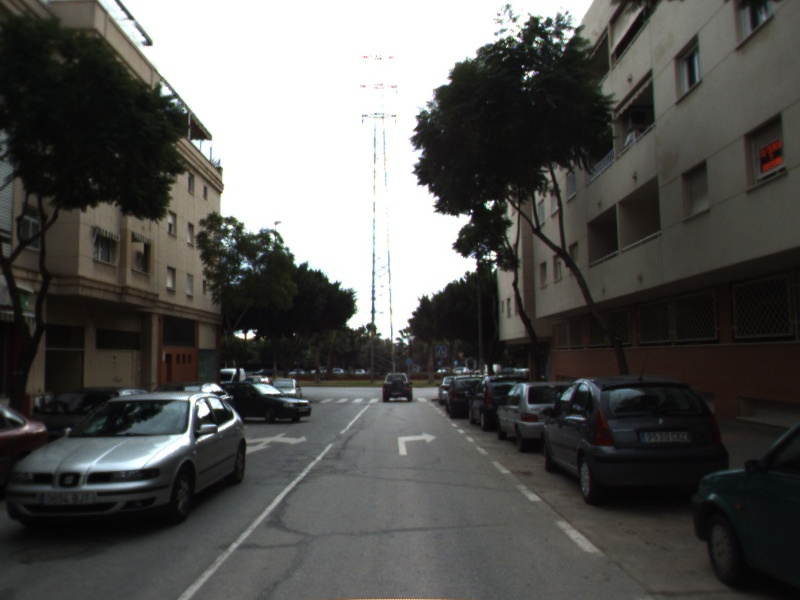RIGHT: (395, 430, 439, 457)
